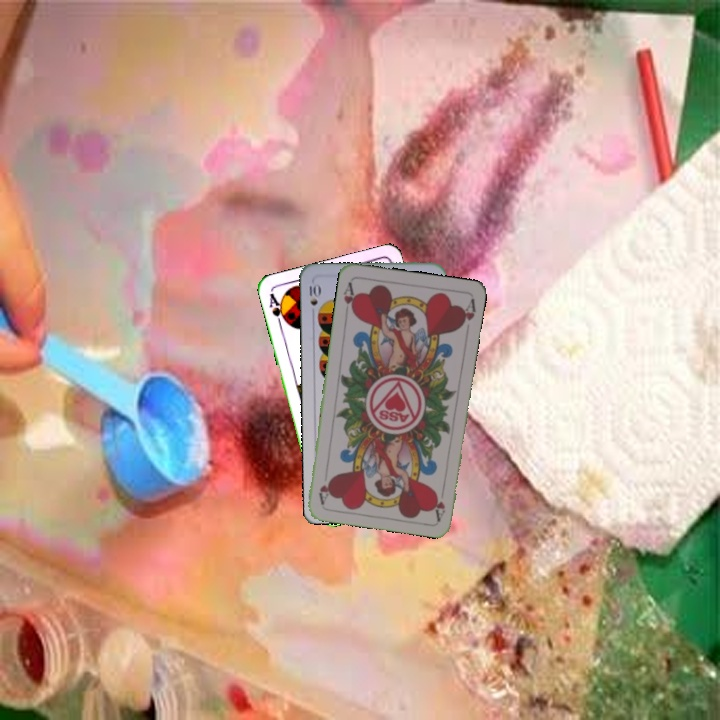HA: (339, 278, 359, 318), (430, 481, 448, 522)
S10: (305, 280, 322, 319)
SA: (265, 289, 290, 329)
